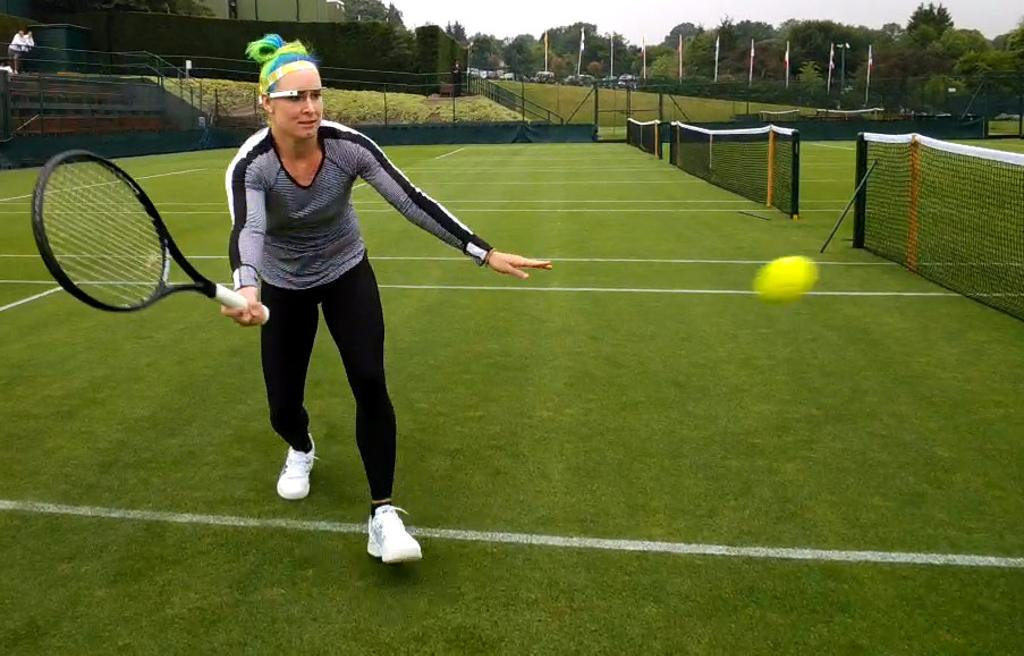face: (272, 67, 322, 137), (19, 30, 23, 36), (28, 31, 31, 38)
